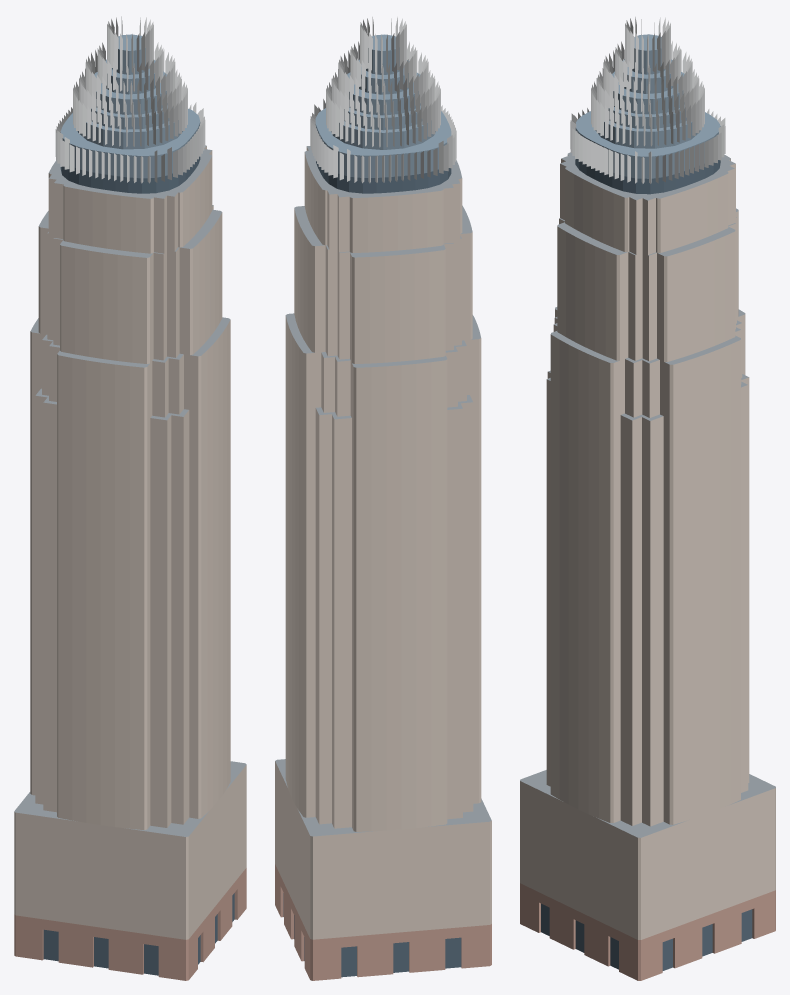
3 views of the same model, side by side, from view 1: azimuth 30°, elevation 25°; view 2: azimuth 150°, elevation 25°; view 3: azimuth 270°, elevation 25° (orthographic).
Visible parts, largest first — view 1: bank-of-america-corporate-center; view 2: bank-of-america-corporate-center; view 3: bank-of-america-corporate-center.
Part boxes in pixels (x1,y1,x2,y2): bank-of-america-corporate-center: (14, 16, 246, 980); bank-of-america-corporate-center: (275, 17, 491, 980); bank-of-america-corporate-center: (520, 17, 775, 980).
Bounding box in the file's own units: 68.07 × 265 × 68.07.
